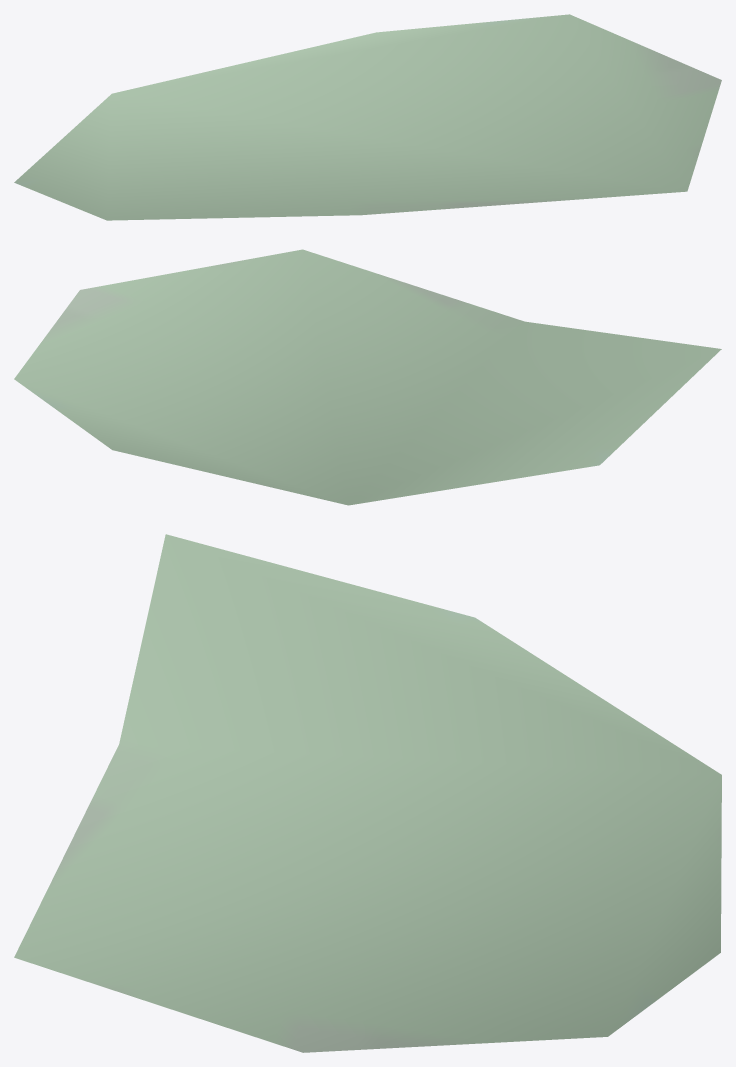
Rendered from TROLLHOLE02_HOLECAP58.fbx.
The picture shows the model from 3 angles, top to bottom: view 1: azimuth 30°, elevation 25°; view 2: azimuth 150°, elevation 25°; view 3: azimuth 270°, elevation 25°; orthographic projection. The views are drawn at different scales.
Visible parts, largest first — view 1: TROLLHOLE02_HOLECAP58; view 2: TROLLHOLE02_HOLECAP58; view 3: TROLLHOLE02_HOLECAP58.
Boxes of the visible parts, x1=… form: TROLLHOLE02_HOLECAP58: x1=14, y1=14, x2=721, y2=220; TROLLHOLE02_HOLECAP58: x1=14, y1=249, x2=721, y2=505; TROLLHOLE02_HOLECAP58: x1=14, y1=534, x2=721, y2=1052.
Bounding box in the file's own units: 25086 × 2817 × 17110.
Materials: 1 (1 with a texture image).
